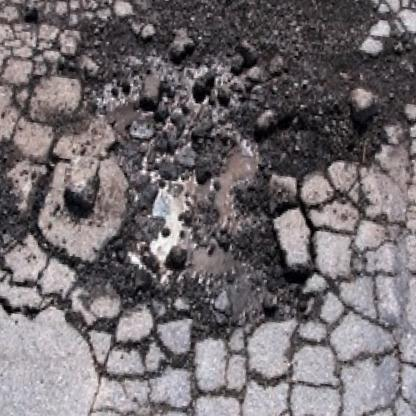pothole: (22, 0, 416, 373)
